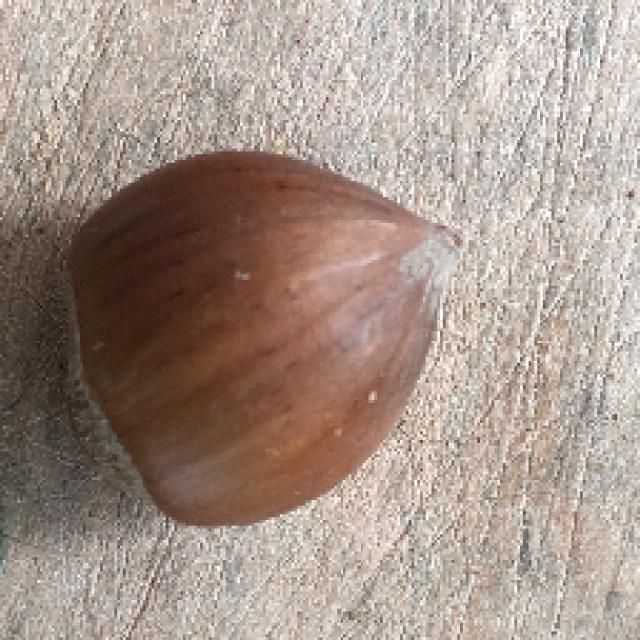qualityHazelnut: (54, 153, 463, 529)
